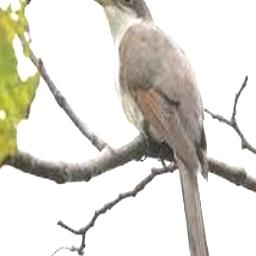Cuckoo: (83, 0, 212, 256)
